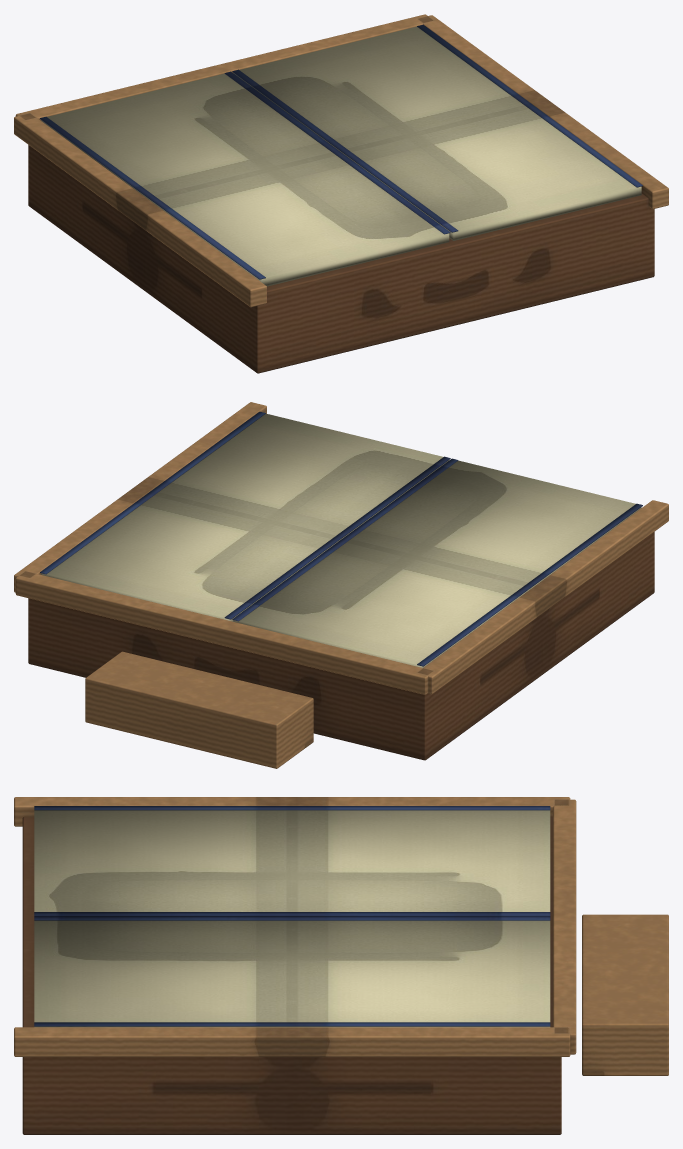
File: koagari_2.glb
3 views of the same model, one above another, from view 1: azimuth 30°, elevation 25°; view 2: azimuth 150°, elevation 25°; view 3: azimuth 270°, elevation 25° (orthographic). The views are drawn at different scales.
Parts seen in each view (by area): view 1: koagari_2_tatami, koagari_2_wood_dark, koagari_2_wood, koagari_2_felt_indigo; view 2: koagari_2_tatami, koagari_2_wood, koagari_2_wood_dark, koagari_2_felt_indigo; view 3: koagari_2_tatami, koagari_2_wood_dark, koagari_2_wood, koagari_2_felt_indigo.
Part boxes in pixels (bbox=[...]): koagari_2_tatami: bbox=[41, 26, 641, 286]; koagari_2_wood_dark: bbox=[28, 145, 654, 373]; koagari_2_wood: bbox=[14, 14, 668, 307]; koagari_2_felt_indigo: bbox=[40, 24, 642, 279]; koagari_2_tatami: bbox=[41, 413, 641, 667]; koagari_2_wood: bbox=[14, 402, 668, 768]; koagari_2_wood_dark: bbox=[28, 532, 654, 760]; koagari_2_felt_indigo: bbox=[40, 411, 642, 666]; koagari_2_tatami: bbox=[34, 810, 550, 1027]; koagari_2_wood_dark: bbox=[22, 816, 561, 1134]; koagari_2_wood: bbox=[14, 797, 668, 1075]; koagari_2_felt_indigo: bbox=[34, 806, 550, 1026].
Bounding box in the file's own units: 3.92 × 0.804 × 4.52.
Materials: 4 (4 with a texture image).
